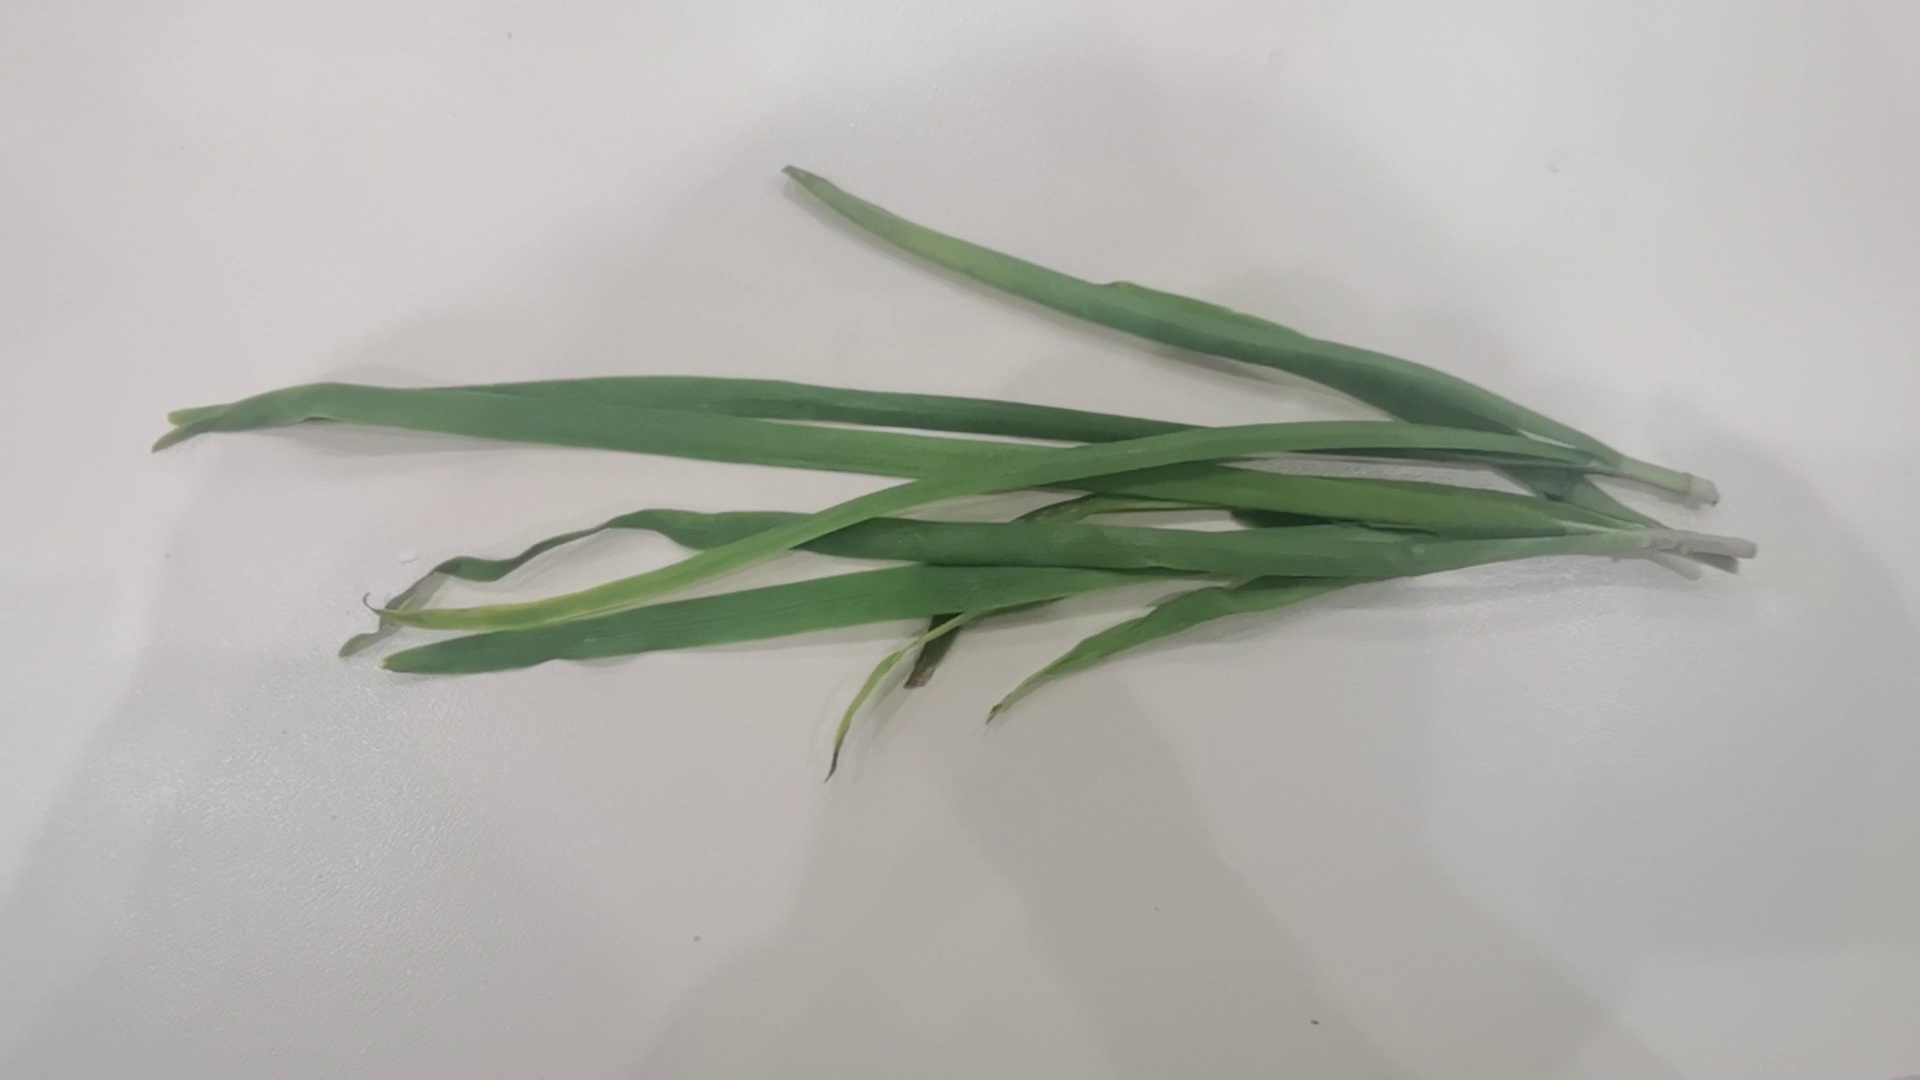chives: (109, 149, 1764, 752)
